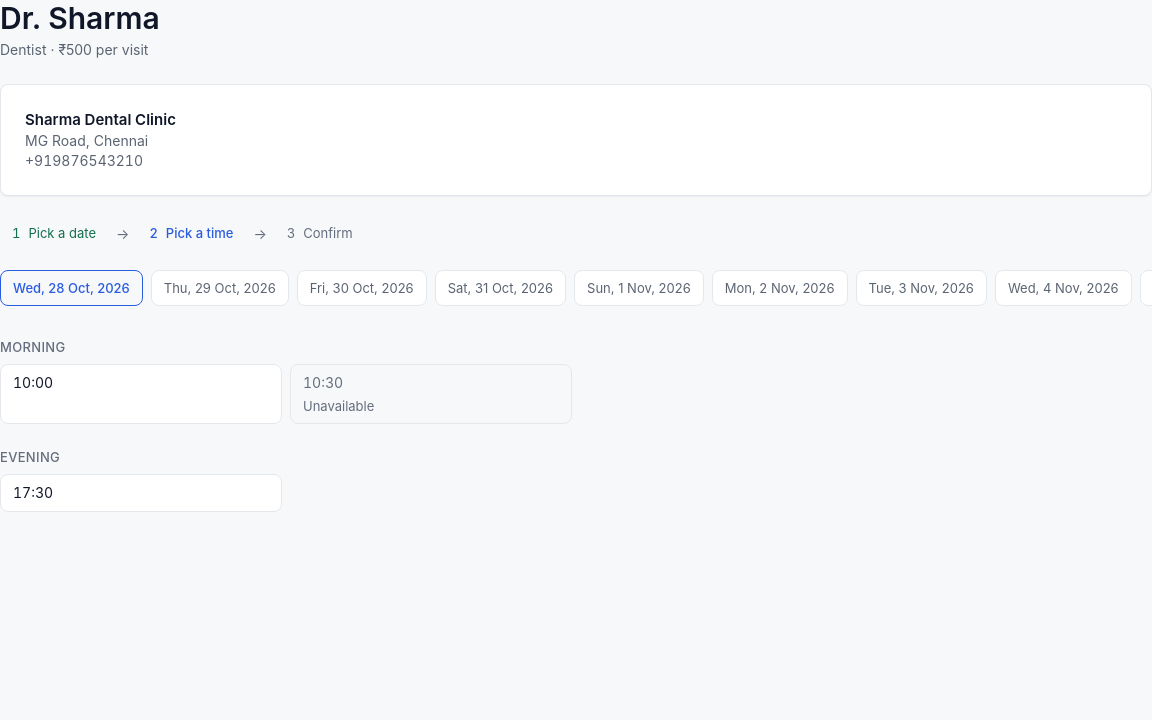
Test: DoctorDetailPage › returns the patient to slot selection when the slot is taken mid-booking
The width and height of the screenshot is (1152, 720).
Click the button "10:00" at [33, 382], box [0,364,282,424]
(page scrolled)
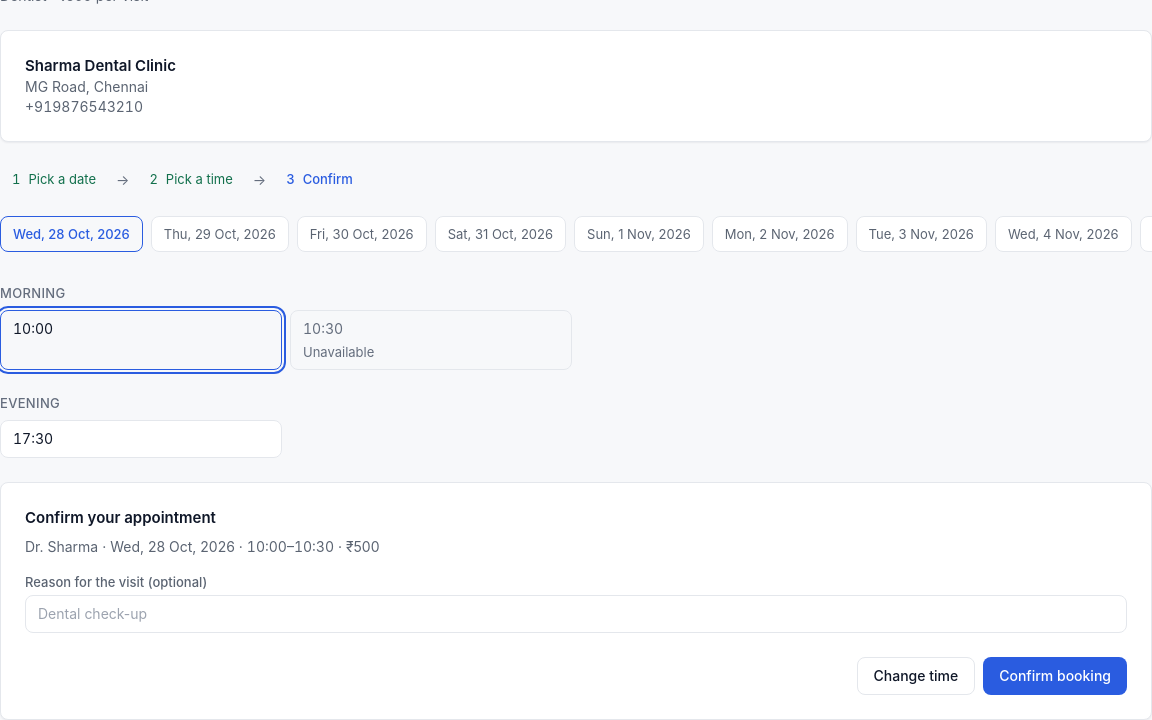
Click the button "Confirm booking" at [1055, 676], box [983,657,1127,695]
(page scrolled)
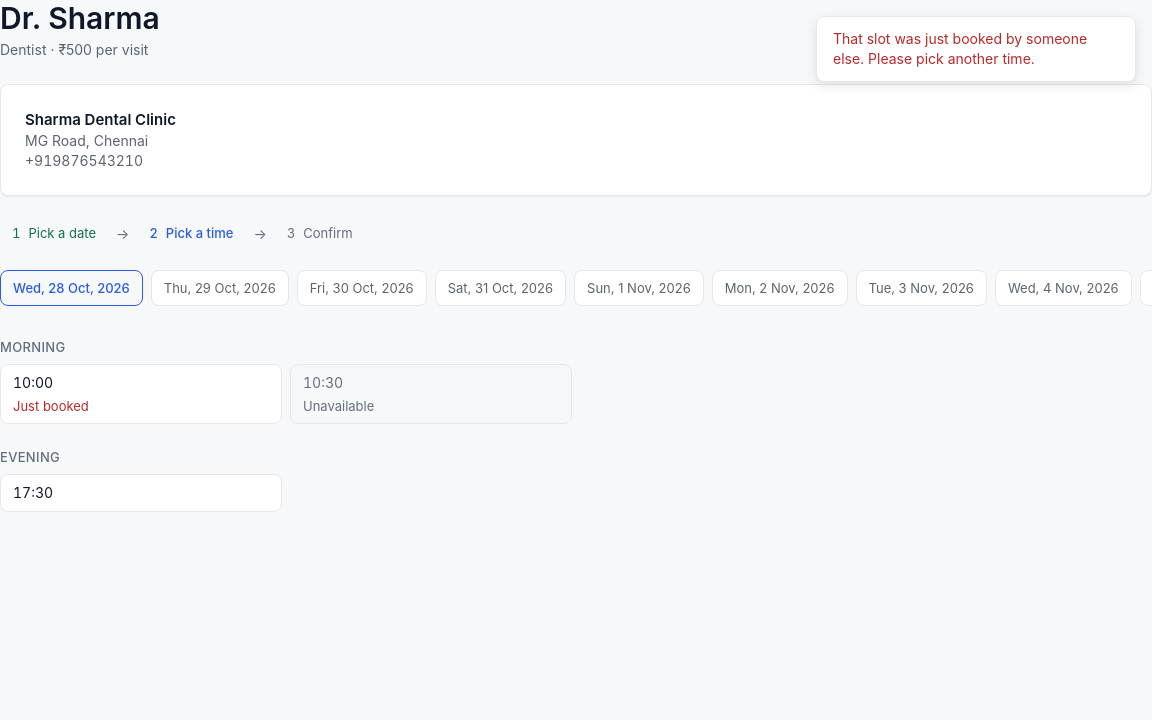
Result: the heading "Confirm your appointment" is gone
Result: the text "Just booked" is shown at [13,397,89,415]
Result: the text "That slot was just booked by someone else" is shown at [833,30,1087,67]
